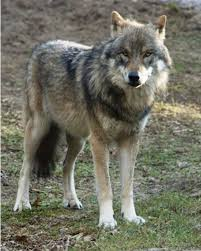wolf: (30, 14, 161, 222)
